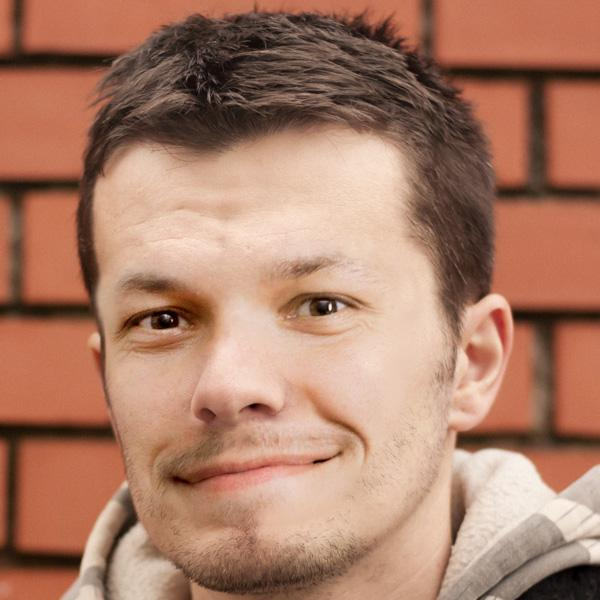Eyes: (275, 279, 371, 335), (115, 294, 206, 352)
